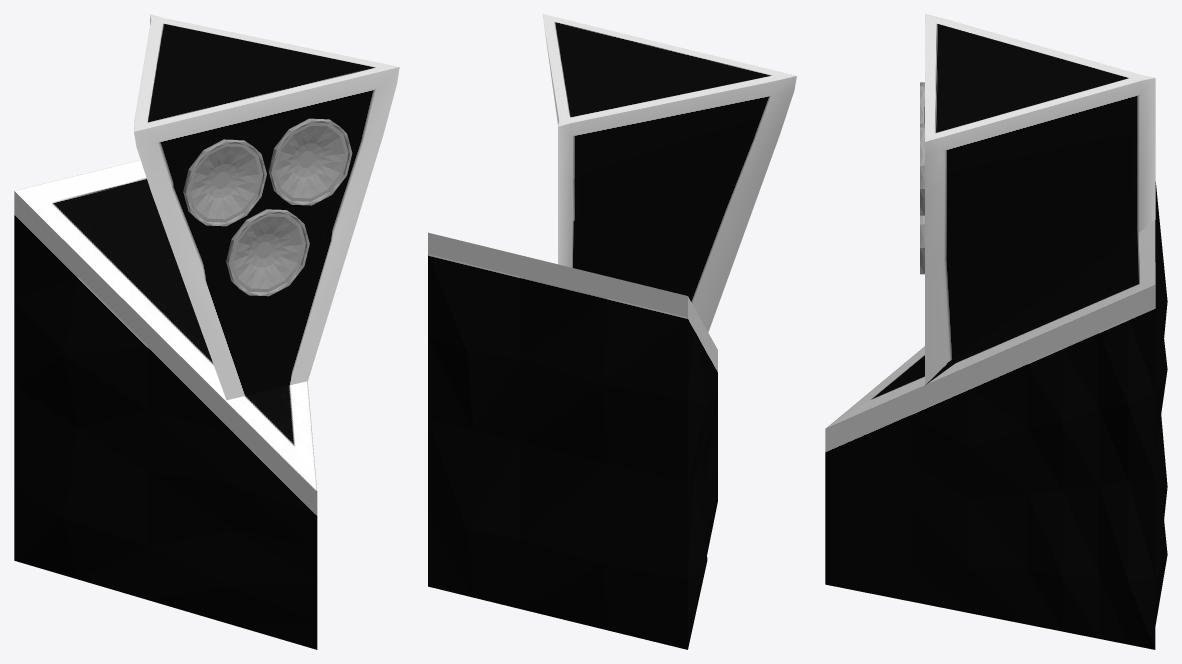
The model's file is SniperTower3.fbx.
3 renders of one model, left to right at view 1: azimuth 30°, elevation 25°; view 2: azimuth 150°, elevation 25°; view 3: azimuth 270°, elevation 25°, orthographic. The views are drawn at different scales.
Visible parts, largest first — view 1: SniperBot, SniperTop2, Bass2, Bass3, Bass; view 2: SniperBot, SniperTop2; view 3: SniperBot, SniperTop2.
Boxes of the visible parts, x1,y1,x2,y2 form: SniperBot: (14,160,317,649); SniperTop2: (134,14,399,400); Bass2: (226,209,309,296); Bass3: (268,118,352,205); Bass: (183,139,266,226); SniperBot: (428,232,717,649); SniperTop2: (542,14,796,332); SniperBot: (825,182,1167,649); SniperTop2: (924,14,1155,385).
Size of the model in its own units: 1.75 by 3.13 by 1.92.
